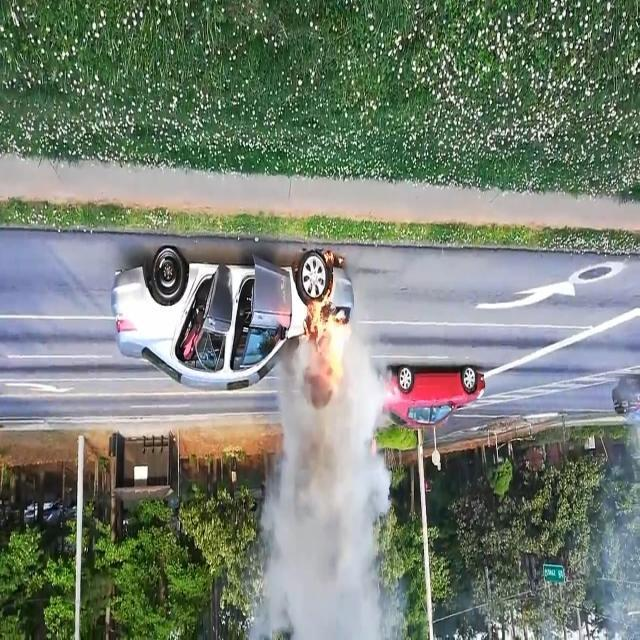fire: (293, 246, 356, 414)
